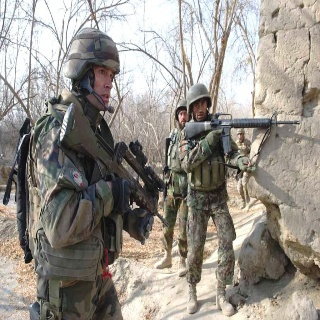rifle: (60, 99, 171, 229), (182, 111, 303, 157), (161, 136, 174, 200)
